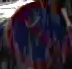No Stopping: (7, 1, 71, 64)
